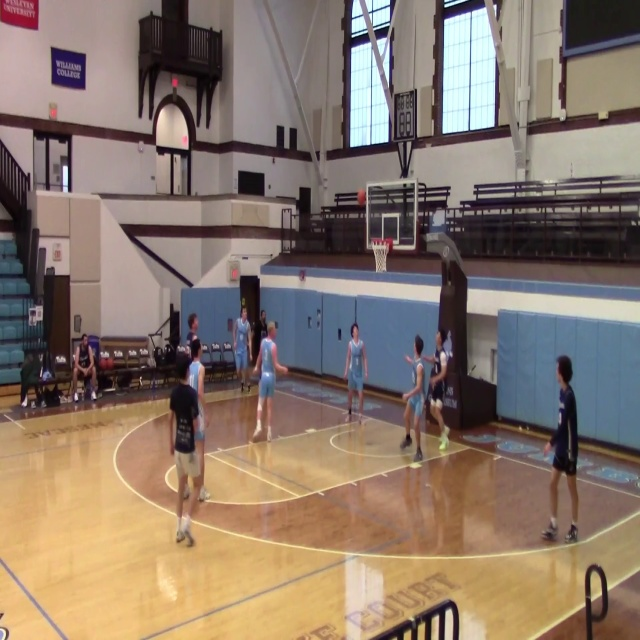Basketball: (99, 358, 114, 370), (357, 189, 366, 206), (251, 369, 261, 379)
